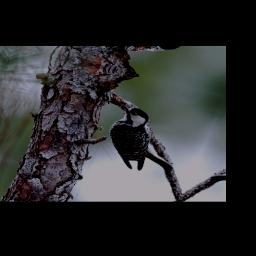Woodpecker: (93, 101, 195, 178)
